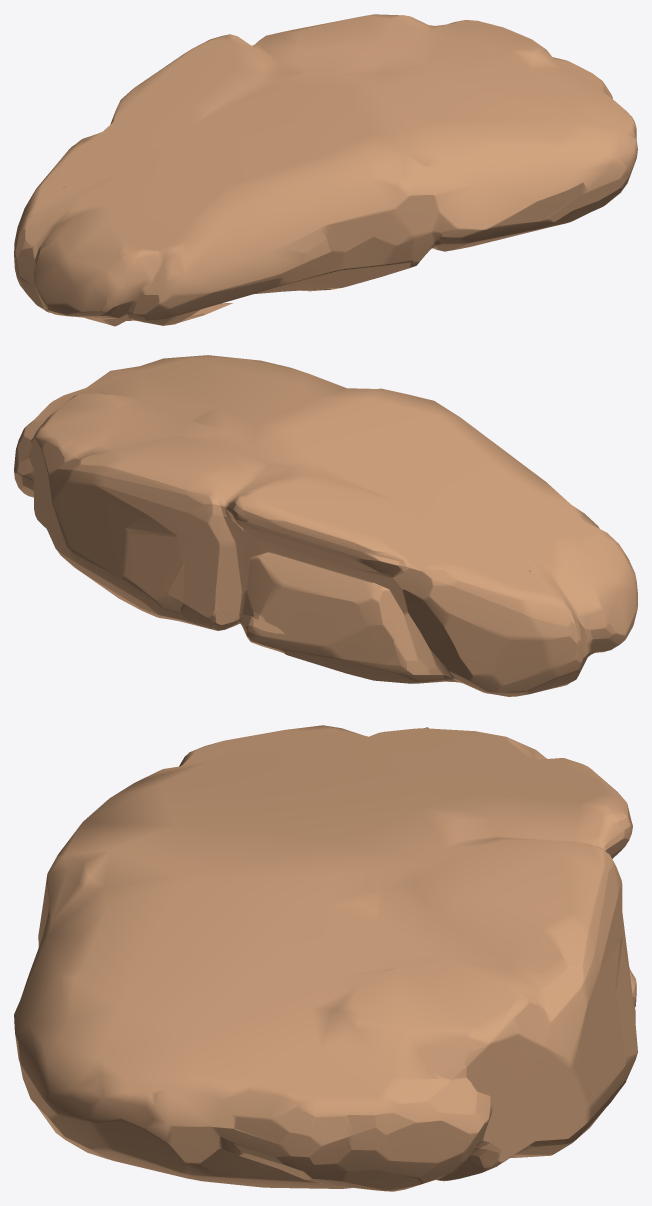
The picture shows the model from 3 angles, top to bottom: view 1: azimuth 30°, elevation 25°; view 2: azimuth 150°, elevation 25°; view 3: azimuth 270°, elevation 25°; orthographic projection. The views are drawn at different scales.
Visible parts, largest first — view 1: Mesh_54_LOD0; view 2: Mesh_54_LOD0; view 3: Mesh_54_LOD0.
Part boxes in pixels (bbox=[...]): Mesh_54_LOD0: bbox=[14, 14, 637, 326]; Mesh_54_LOD0: bbox=[14, 355, 637, 696]; Mesh_54_LOD0: bbox=[14, 725, 637, 1191].
Size of what is drawn, in the model's own units: 2731 by 813 by 1606.
